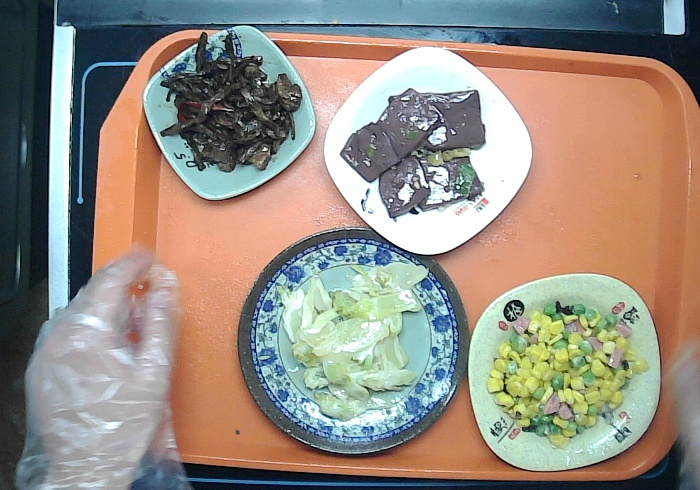NLDX-Bai_Se_Xiao_Fang_Die: (321, 44, 534, 258)
NLDX-Fu_Zi_Fang_Die: (465, 269, 665, 475)
NLDX-Qing_Hua_Xiao_Fang_Die: (139, 21, 318, 204)
NLDX-Qing_Hua_Yuan_Die: (232, 222, 471, 462)
